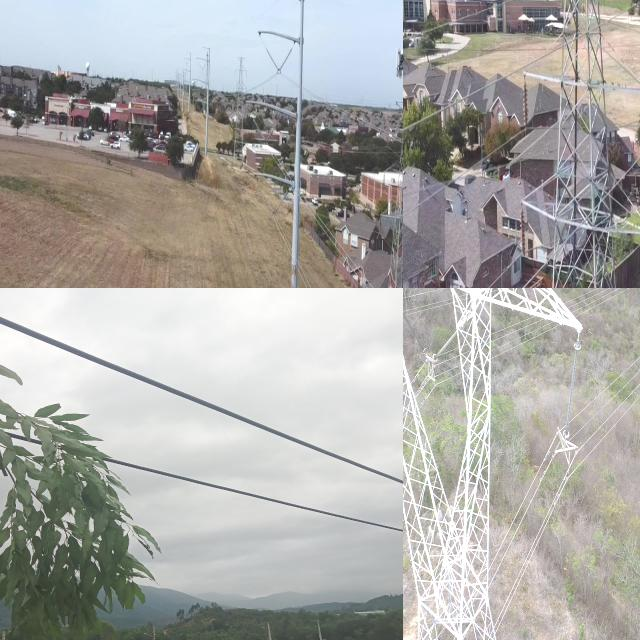杆塔: (403, 288, 581, 640), (501, 0, 640, 288), (373, 40, 403, 288), (232, 54, 250, 171)
植被遮挡: (0, 356, 173, 640)
正常电缆: (447, 435, 557, 640), (480, 466, 573, 640), (585, 391, 640, 466), (583, 380, 640, 448), (584, 366, 640, 429), (589, 348, 640, 408)
正常绝缘子: (554, 333, 588, 454), (518, 67, 534, 136), (514, 200, 530, 267), (276, 47, 294, 74), (265, 47, 282, 74)
